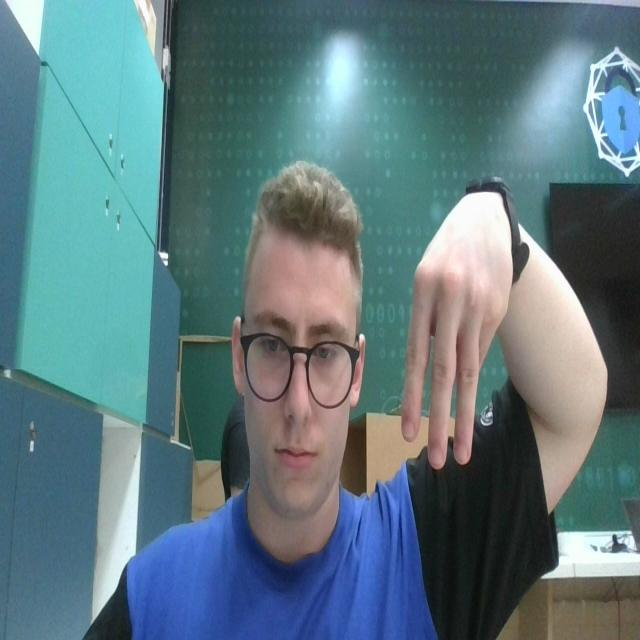M: (401, 187, 512, 473)
